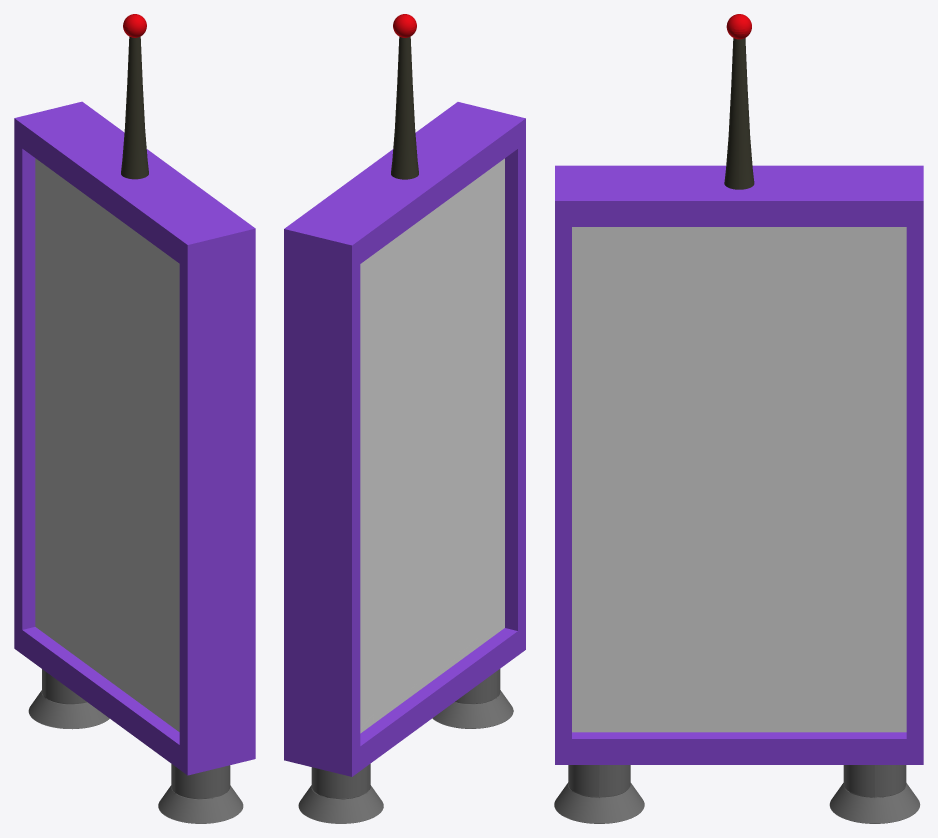
Rendered from addwall3.fbx.
The picture shows the model from 3 angles, left to right: view 1: azimuth 30°, elevation 25°; view 2: azimuth 150°, elevation 25°; view 3: azimuth 270°, elevation 25°; orthographic projection. The views are drawn at different scales.
Visible parts, largest first — view 1: Cube.002; view 2: Cube.002; view 3: Cube.002.
Part boxes in pixels (x1,y1,x2,y2): Cube.002: [14, 14, 255, 823]; Cube.002: [284, 14, 525, 823]; Cube.002: [554, 14, 923, 823].
Bounding box in the file's own units: 49.1 × 472 × 200.
